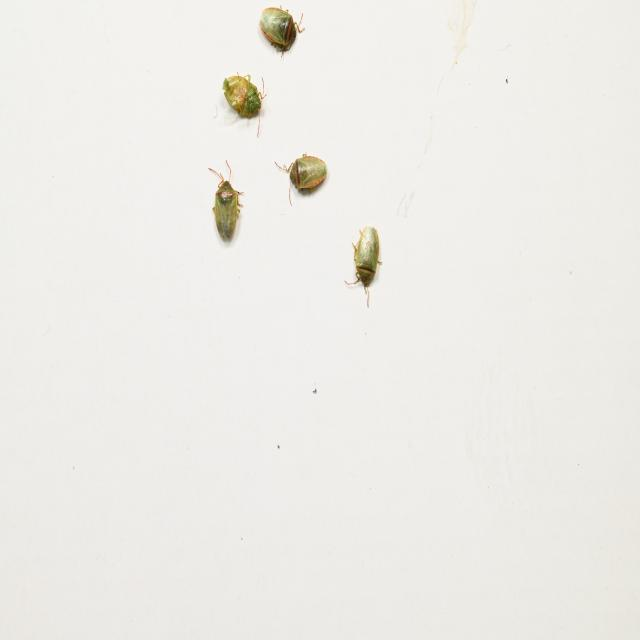stinkbug: (345, 223, 383, 305), (220, 70, 266, 136), (208, 160, 243, 246), (273, 151, 328, 204), (259, 5, 306, 56)
